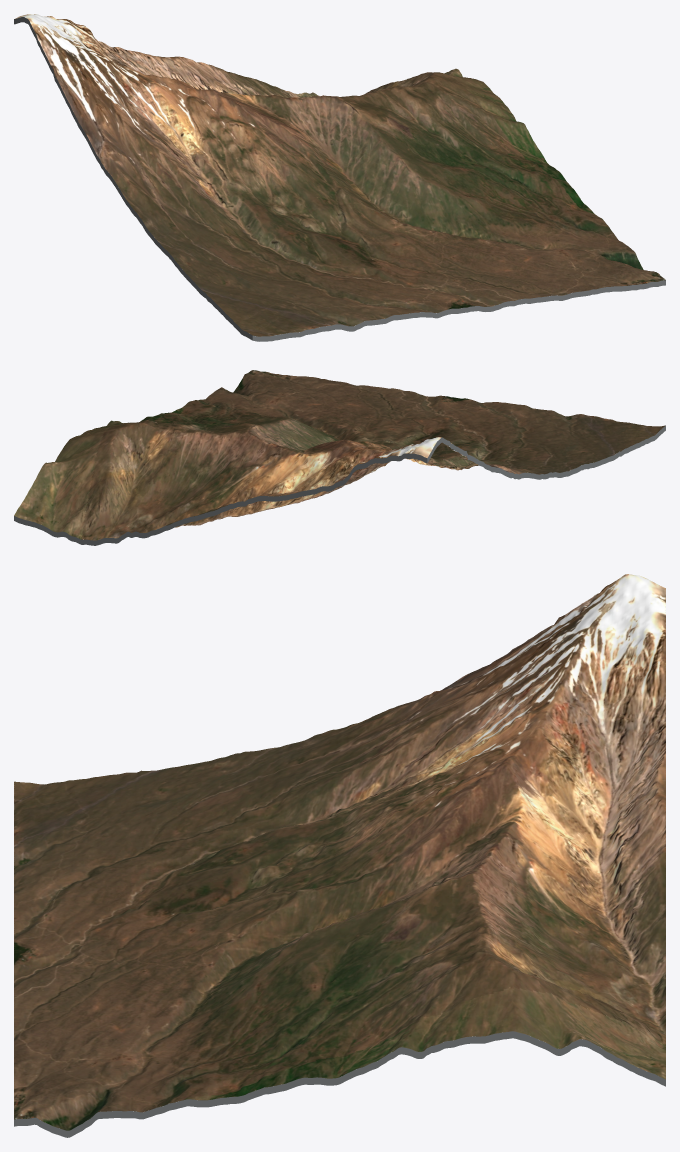
3 views of the same model, one above another, from view 1: azimuth 30°, elevation 25°; view 2: azimuth 150°, elevation 25°; view 3: azimuth 270°, elevation 25° (orthographic). The views are drawn at different scales.
Visible parts, largest first — view 1: terrain, skirt; view 2: terrain, skirt; view 3: terrain, skirt.
Part boxes in pixels (x1,y1,x2,y2): terrain: (15,14,665,336); skirt: (14,17,665,341); terrain: (14,370,665,540); skirt: (14,425,665,545); terrain: (14,574,665,1130); skirt: (14,1031,665,1137).
Size of the model in its own units: 7500 by 3659 by 7500.
1 material, 1 textured.
